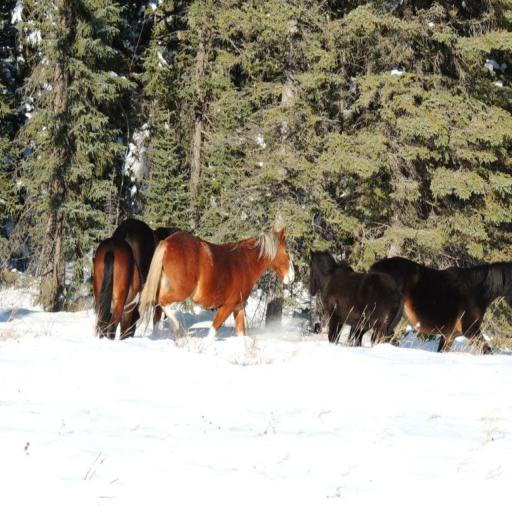horse: (138, 226, 296, 346), (366, 258, 512, 353), (306, 247, 406, 345), (110, 218, 182, 291), (92, 232, 140, 338)
